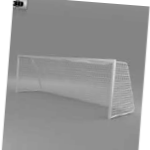goals: (14, 53, 136, 119)
